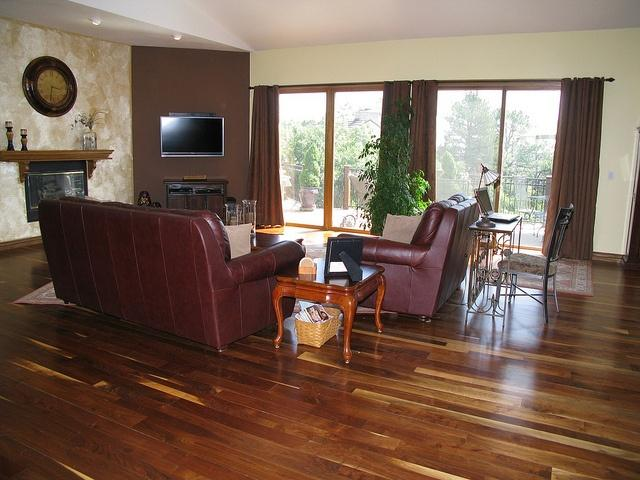AIO PC-Monitor-TV: (159, 113, 224, 157)
Kursi: (491, 201, 573, 324)
